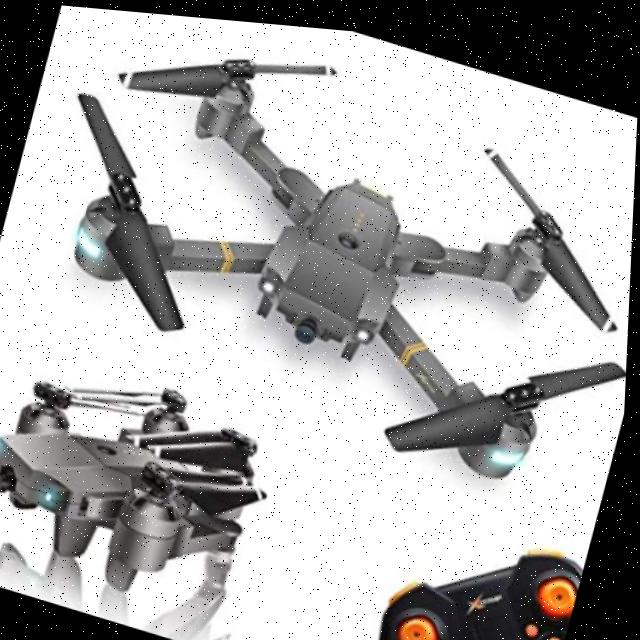drones: (19, 2, 640, 506), (0, 332, 329, 640)
